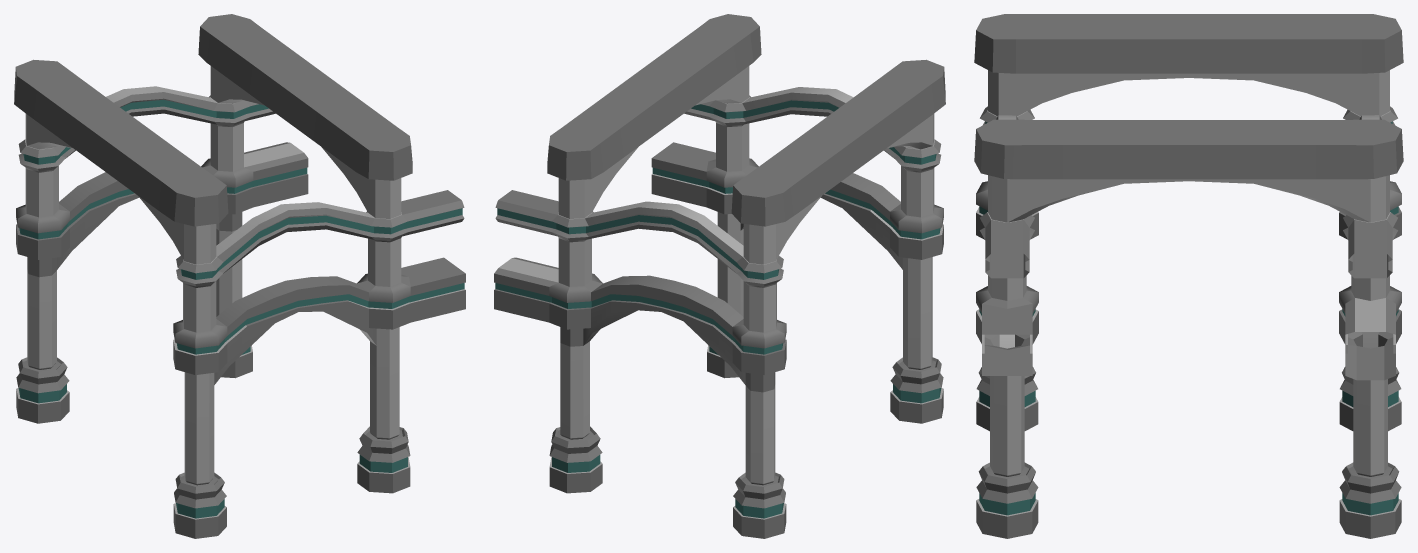
File: arco fbx.fbx
3 views of the same model, side by side, from view 1: azimuth 30°, elevation 25°; view 2: azimuth 150°, elevation 25°; view 3: azimuth 270°, elevation 25° (orthographic). The views are drawn at different scales.
Parts seen in each view (by area): view 1: arcos; view 2: arcos; view 3: arcos.
Boxes of the visible parts, x1,y1,x2,y2 form: arcos: (14, 14, 465, 538); arcos: (494, 14, 945, 538); arcos: (974, 14, 1403, 538).
Size of the model in its own units: 20.45 by 23.61 by 23.33.
